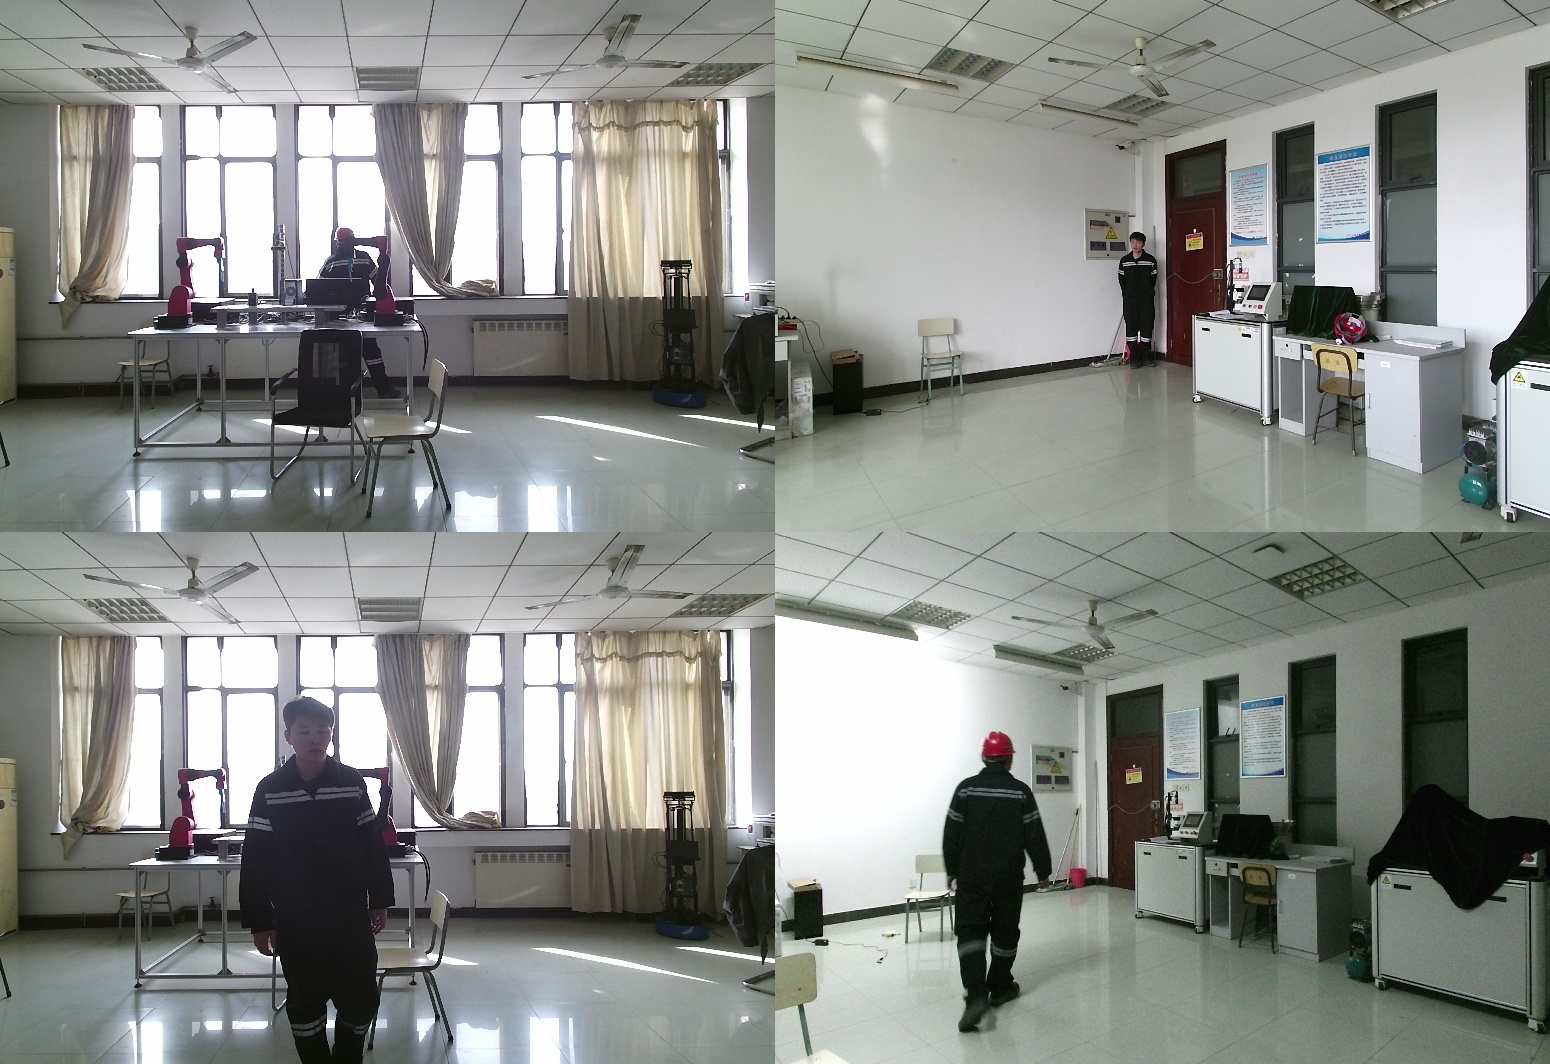person: (244, 700, 401, 1064), (932, 734, 1046, 1035), (314, 229, 395, 402), (1116, 232, 1161, 370)
